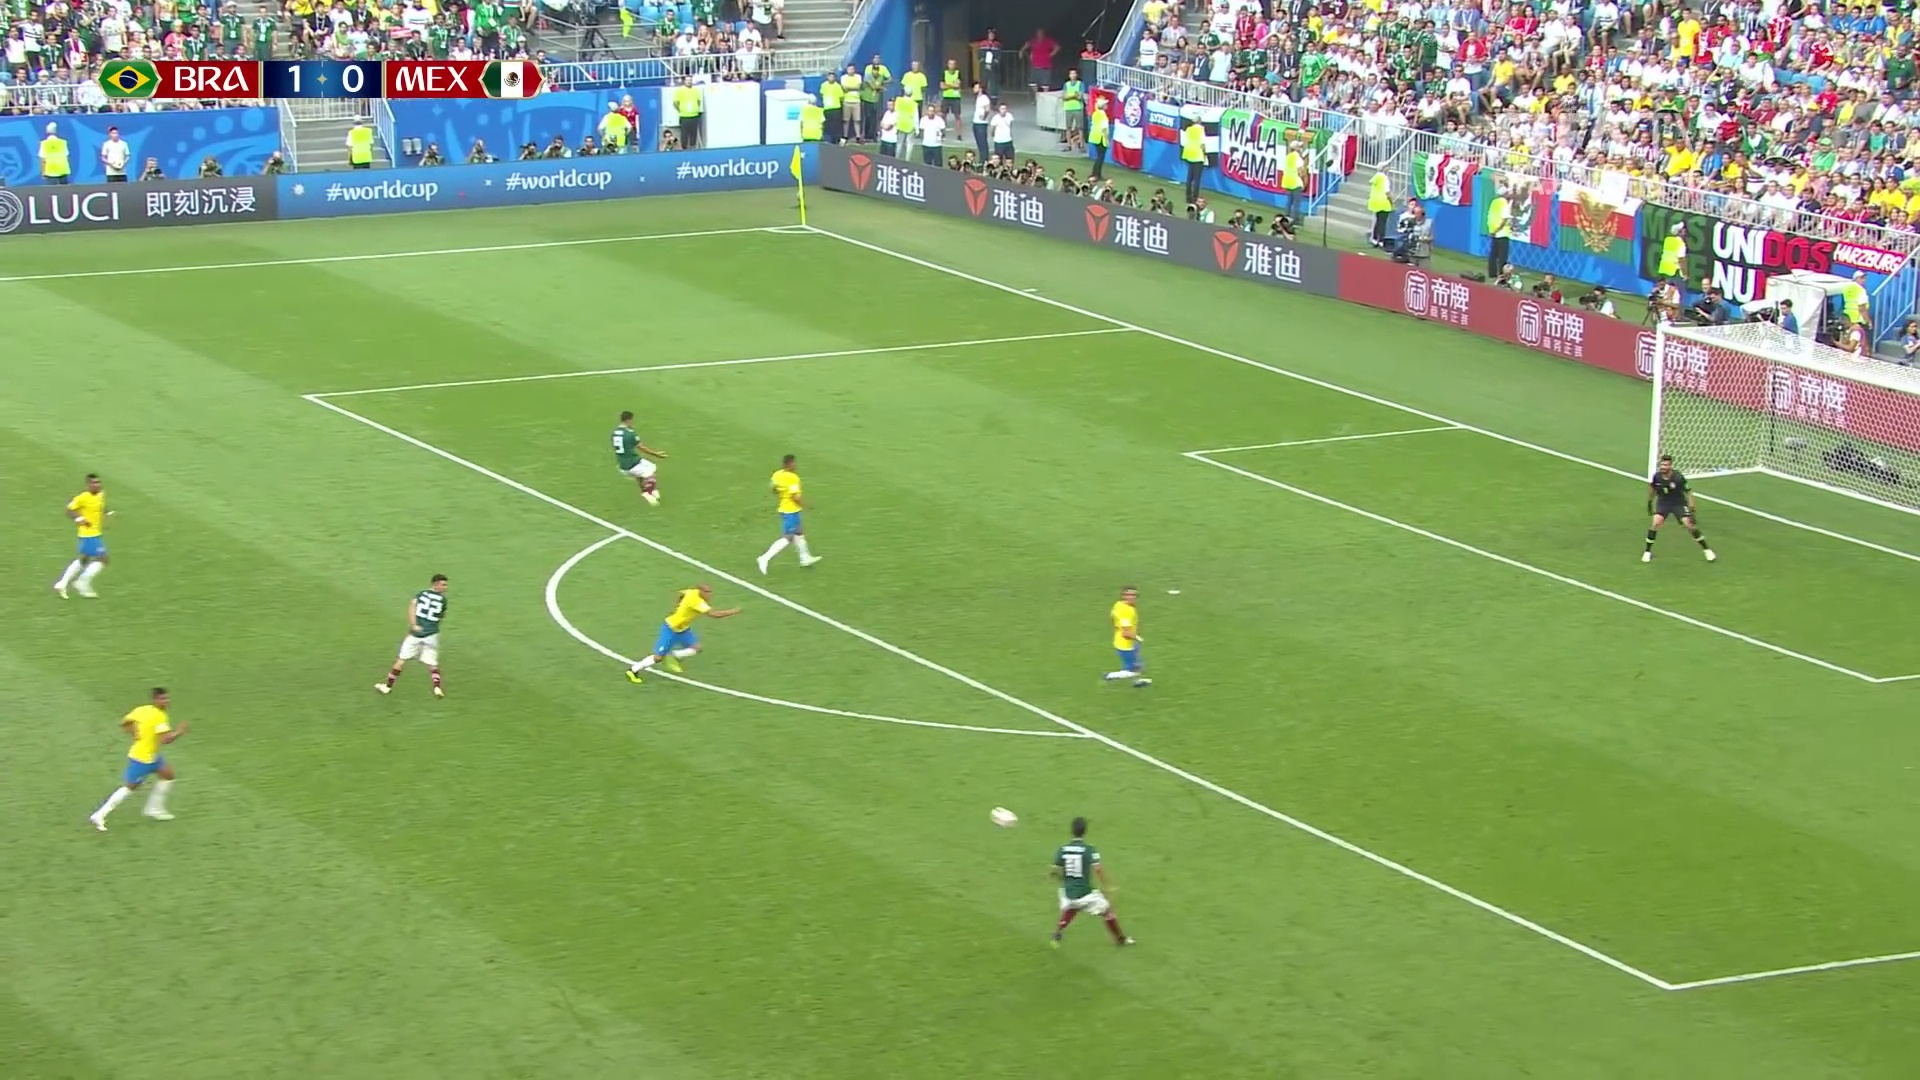ball: (992, 809, 1017, 830)
person: (89, 688, 187, 822), (629, 587, 740, 681), (1051, 815, 1129, 943), (1643, 448, 1711, 569), (379, 576, 444, 694), (760, 452, 819, 571), (49, 473, 106, 598), (1100, 587, 1151, 686), (612, 414, 664, 504)
